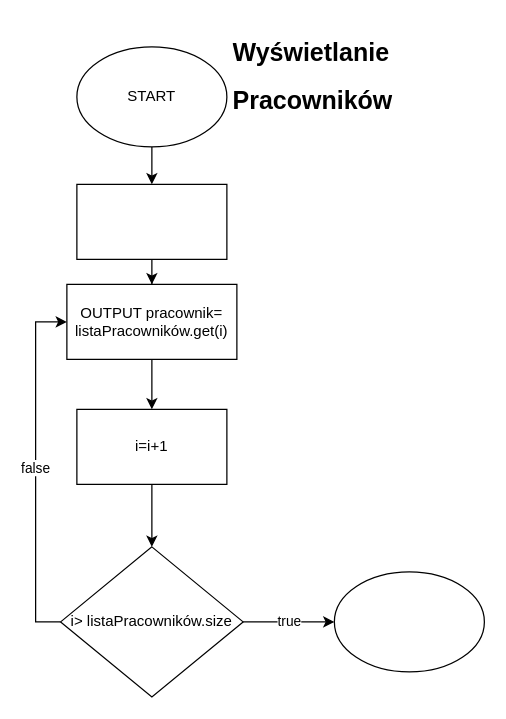
This 506x719 diagram has some shape labels left out. The centre of each missing label's shape, as x and y in pixels:
END Powrót do menu: [408,621]
i=0 pracownik=null: [151,221]
